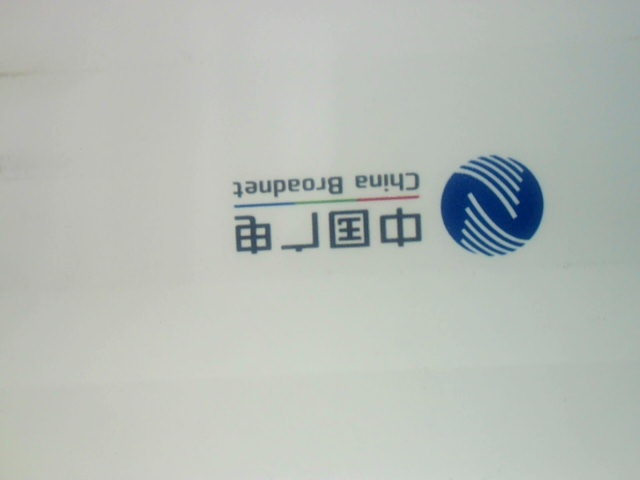AW_ChinaBroadNet: (202, 131, 562, 261)
